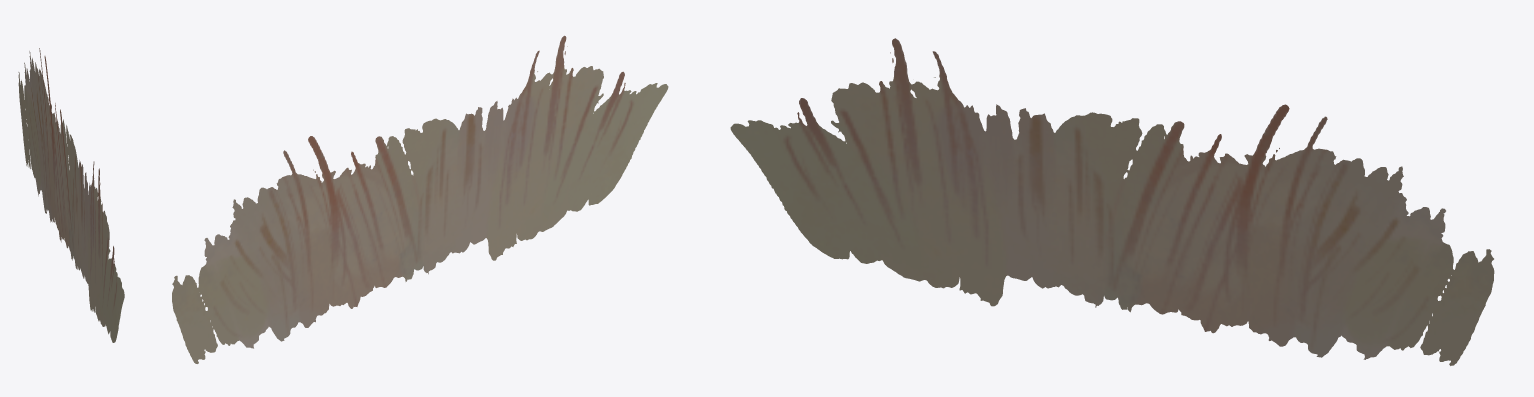
The model's file is grass3_001.fbx.
3 renders of one model, left to right at view 1: azimuth 30°, elevation 25°; view 2: azimuth 150°, elevation 25°; view 3: azimuth 270°, elevation 25°, orthographic. The views are drawn at different scales.
Visible parts, largest first — view 1: grass3.001; view 2: grass3.001; view 3: grass3.001.
Boxes of the visible parts, box(x1,y1,x2,y2) form: grass3.001: box(18, 48, 124, 342); grass3.001: box(172, 35, 668, 363); grass3.001: box(730, 38, 1494, 365).
Size of the model in its own units: 103 by 112 by 300.
